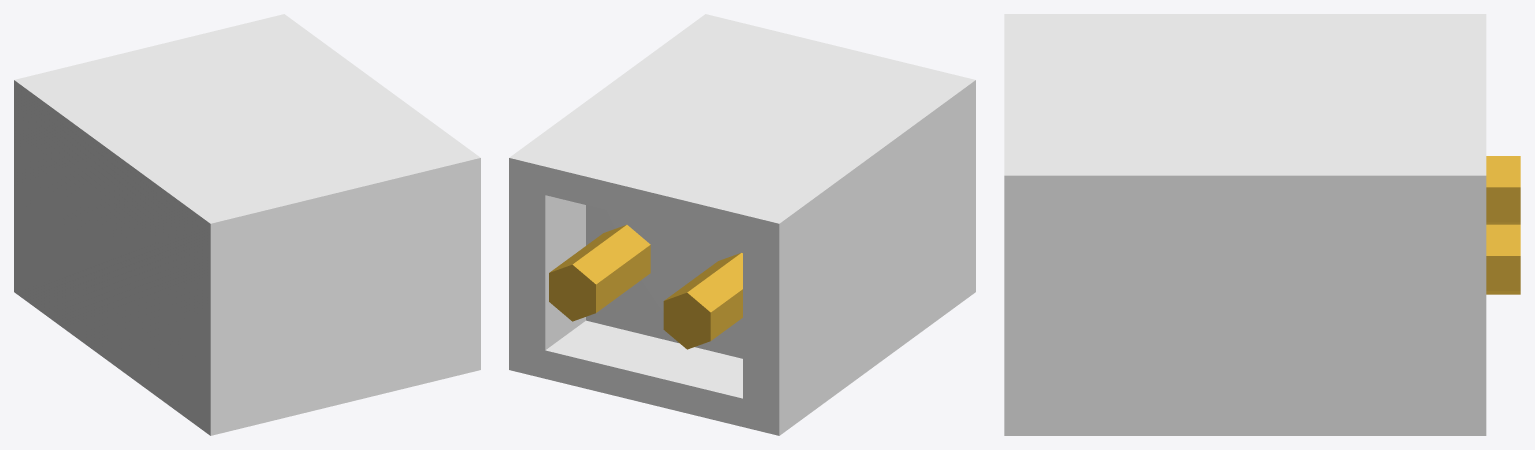
Rendered from input_socket.glb.
3 renders of one model, left to right at view 1: azimuth 30°, elevation 25°; view 2: azimuth 150°, elevation 25°; view 3: azimuth 270°, elevation 25°, orthographic. The views are drawn at different scales.
Visible parts, largest first — view 1: Male_Socket; view 2: Male_Socket; view 3: Male_Socket.
Boxes of the visible parts, left/top/right/bottom form: Male_Socket: left=14, top=14, right=480, bottom=435; Male_Socket: left=509, top=14, right=975, bottom=435; Male_Socket: left=1004, top=14, right=1520, bottom=435.
Bounding box in the file's own units: 0.1587 × 0.119 × 0.2141.
2 materials, 1 textured.
